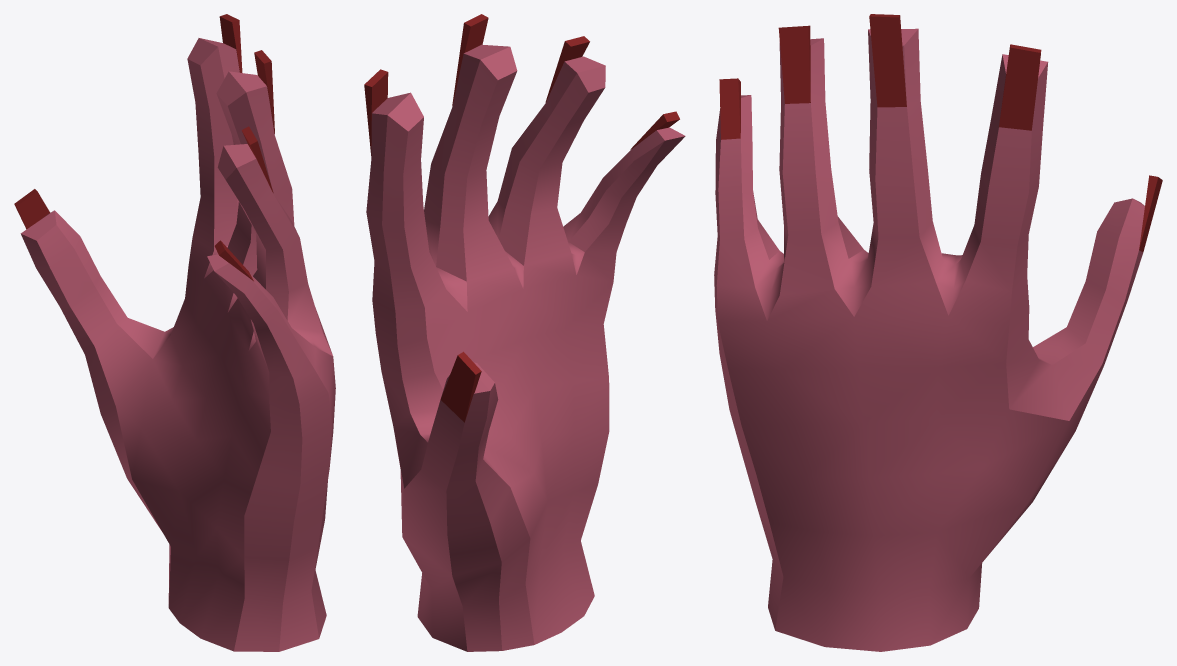
File: hand_open_L.fbx
The picture shows the model from 3 angles, left to right: view 1: azimuth 30°, elevation 25°; view 2: azimuth 150°, elevation 25°; view 3: azimuth 270°, elevation 25°; orthographic projection. The views are drawn at different scales.
Visible parts, largest first — view 1: Hand_open_L_mesh; view 2: Hand_open_L_mesh; view 3: Hand_open_L_mesh.
Boxes of the visible parts, left/top/right/bottom form: Hand_open_L_mesh: left=14, top=14, right=335, bottom=651; Hand_open_L_mesh: left=364, top=14, right=685, bottom=651; Hand_open_L_mesh: left=714, top=14, right=1162, bottom=651.
Bounding box in the file's own units: 1.77 × 5.34 × 3.55.
